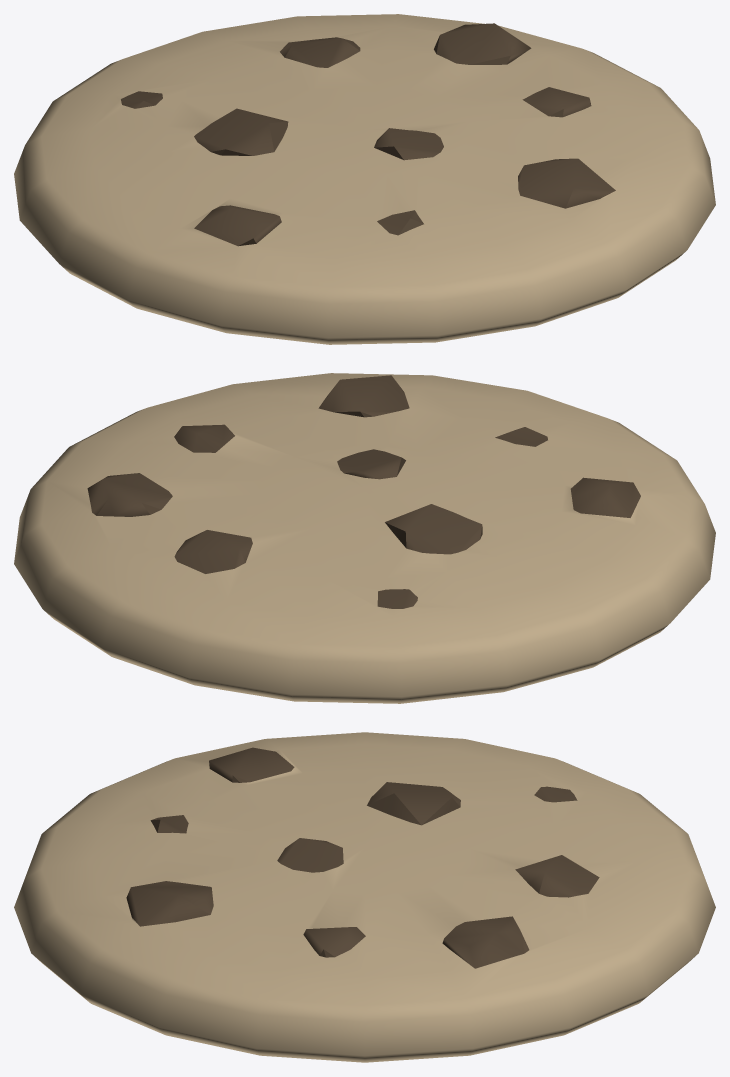
File: Cookie.fbx
3 views of the same model, one above another, from view 1: azimuth 30°, elevation 25°; view 2: azimuth 150°, elevation 25°; view 3: azimuth 270°, elevation 25° (orthographic).
Visible parts, largest first — view 1: Cookie; view 2: Cookie; view 3: Cookie.
Part boxes in pixels (left/top/right/bottom): Cookie: left=14, top=14, right=715, bottom=344; Cookie: left=14, top=373, right=715, bottom=703; Cookie: left=14, top=732, right=715, bottom=1062.
Bounding box in the file's own units: 2.06 × 0.282 × 2.06.
